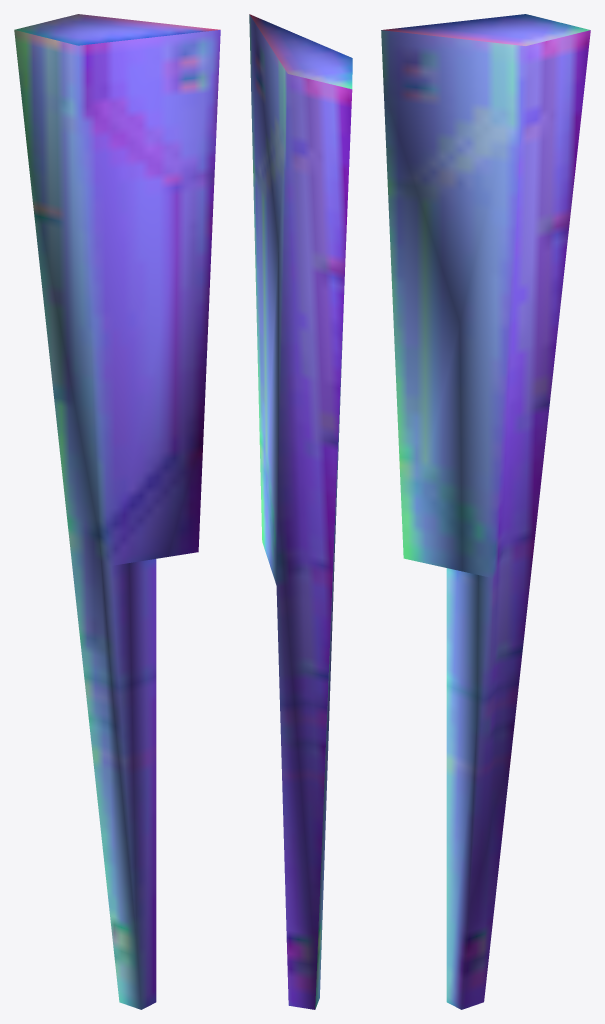
File: ship_debris_05_part_20.glb
The picture shows the model from 3 angles, left to right: view 1: azimuth 90°, elevation 25°; view 2: azimuth 210°, elevation 25°; view 3: azimuth 270°, elevation 25°; orthographic projection.
Visible parts, largest first — view 1: ship_debris_05_part_20; view 2: ship_debris_05_part_20; view 3: ship_debris_05_part_20.
Part boxes in pixels (x1,y1,x2,y2): ship_debris_05_part_20: [14, 14, 220, 1009]; ship_debris_05_part_20: [249, 14, 352, 1009]; ship_debris_05_part_20: [381, 14, 590, 1009].
Bounding box in the file's own units: 0.172 × 2.44 × 0.4736.
Materials: 1 (1 with a texture image).
